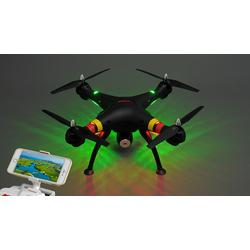drone: (42, 68, 204, 176)
